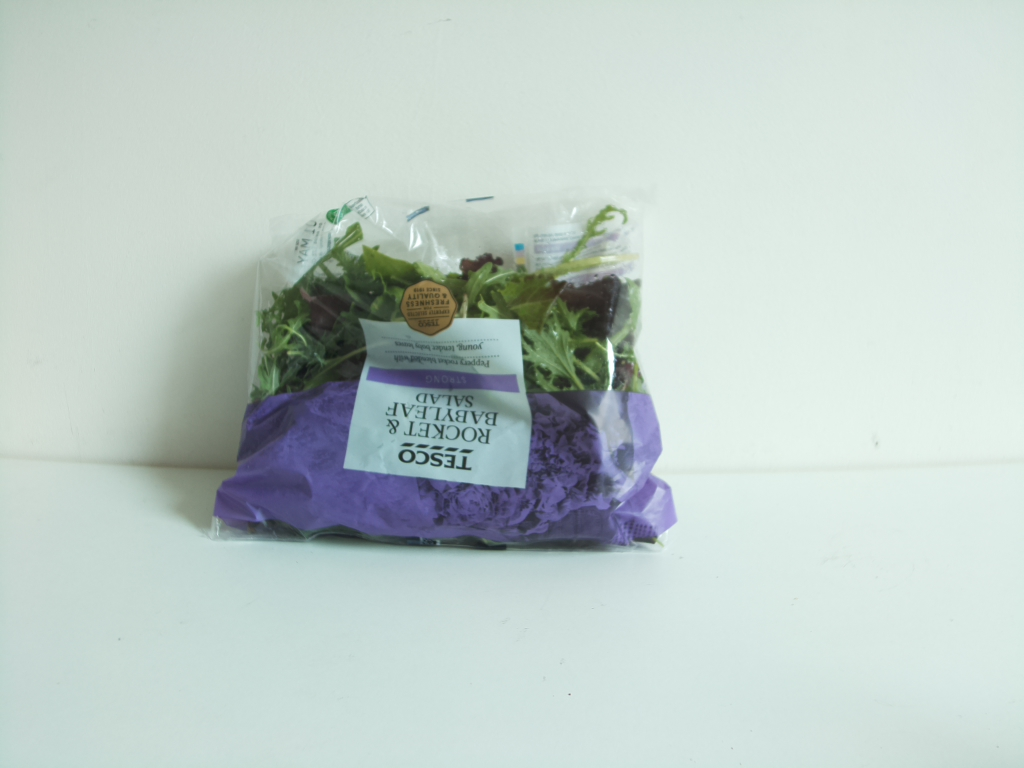salad: (240, 182, 670, 545)
